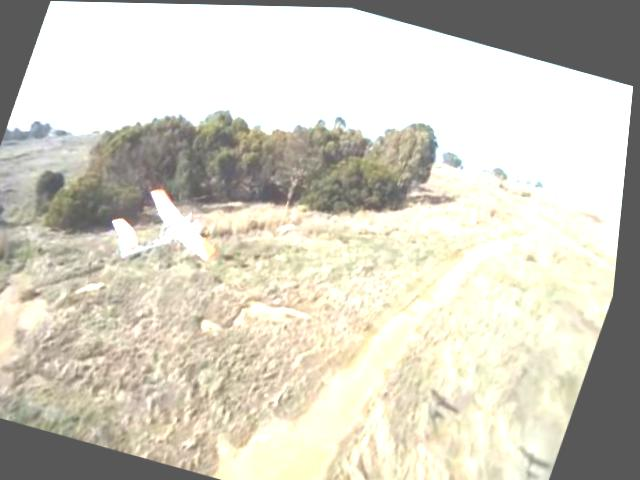uav: (92, 166, 247, 303)
